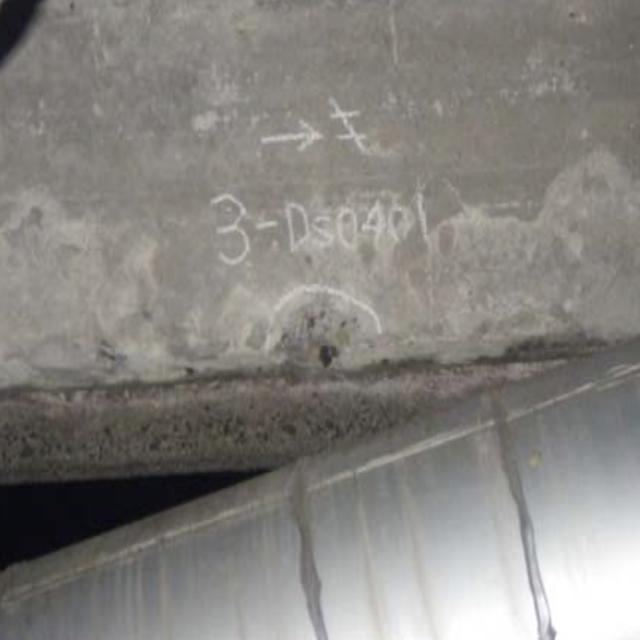spalling: (262, 298, 378, 388)
